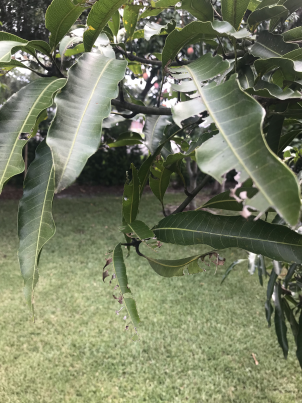weevil: (122, 194, 130, 202)
